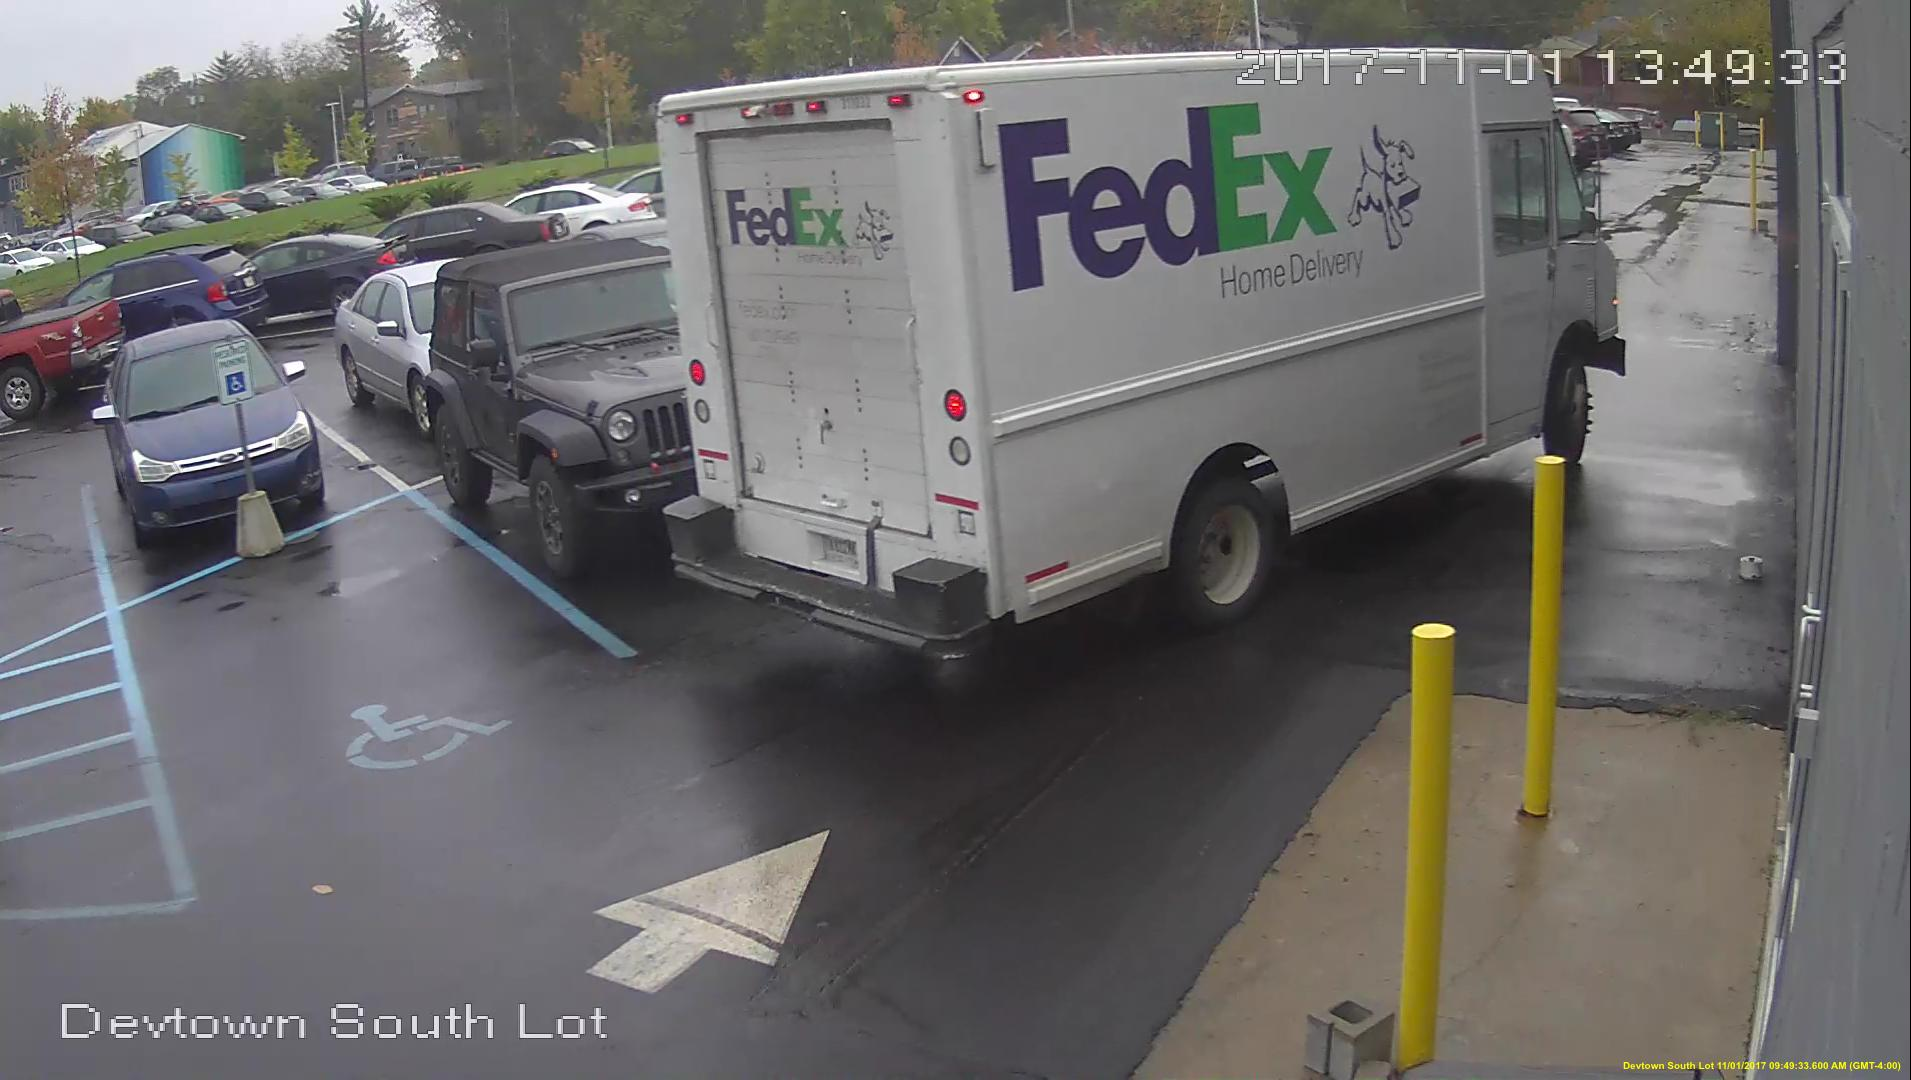fedex_truck: (661, 47, 1627, 636)
